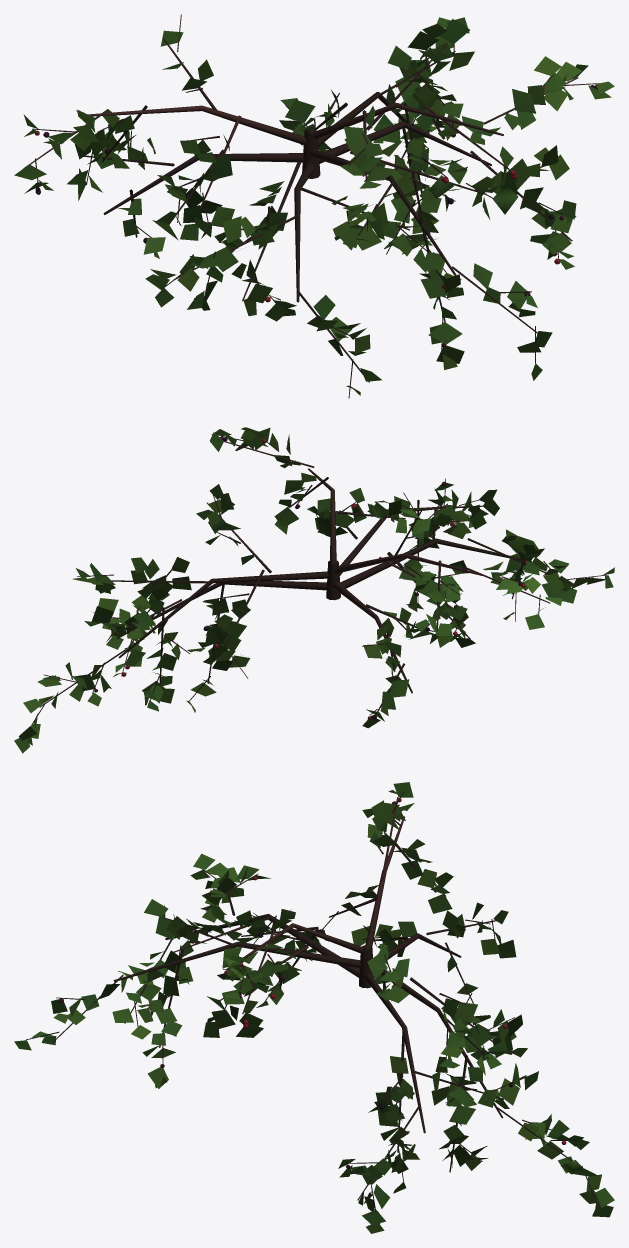
Rendered from bush-bramble-a.lod0.glb.
3 views of the same model, one above another, from view 1: azimuth 30°, elevation 25°; view 2: azimuth 150°, elevation 25°; view 3: azimuth 270°, elevation 25° (orthographic). The views are drawn at different scales.
Visible parts, largest first — view 1: bush-bramble-a.lod0; view 2: bush-bramble-a.lod0; view 3: bush-bramble-a.lod0.
Part boxes in pixels (x1,y1,x2,y2): bush-bramble-a.lod0: (14,14,614,398); bush-bramble-a.lod0: (14,427,614,753); bush-bramble-a.lod0: (14,782,614,1233).
Bounding box in the file's own units: 2.49 × 1.42 × 2.65.
